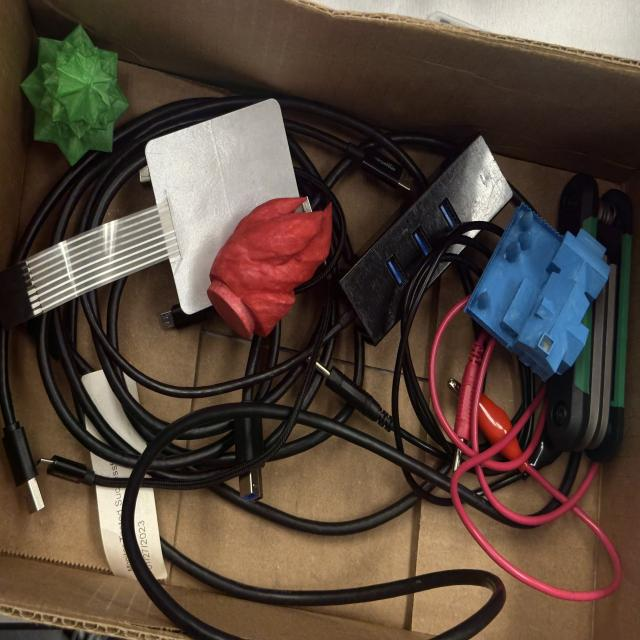fire: (204, 190, 335, 342)
house: (462, 196, 612, 384)
tree: (19, 21, 131, 167)
